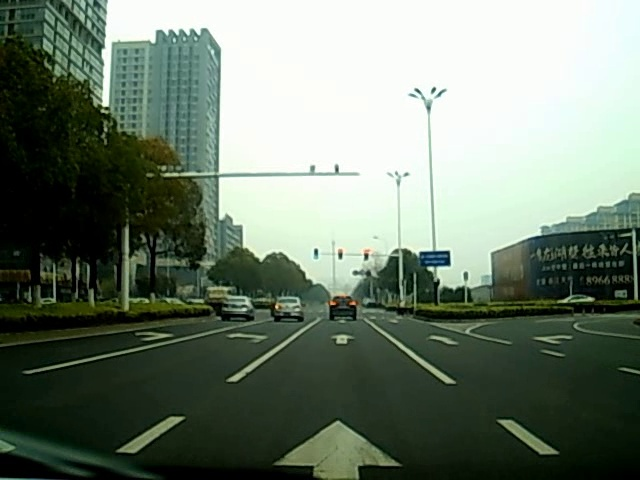Traffic_Light_stop: (363, 247, 370, 262), (337, 246, 344, 261)
